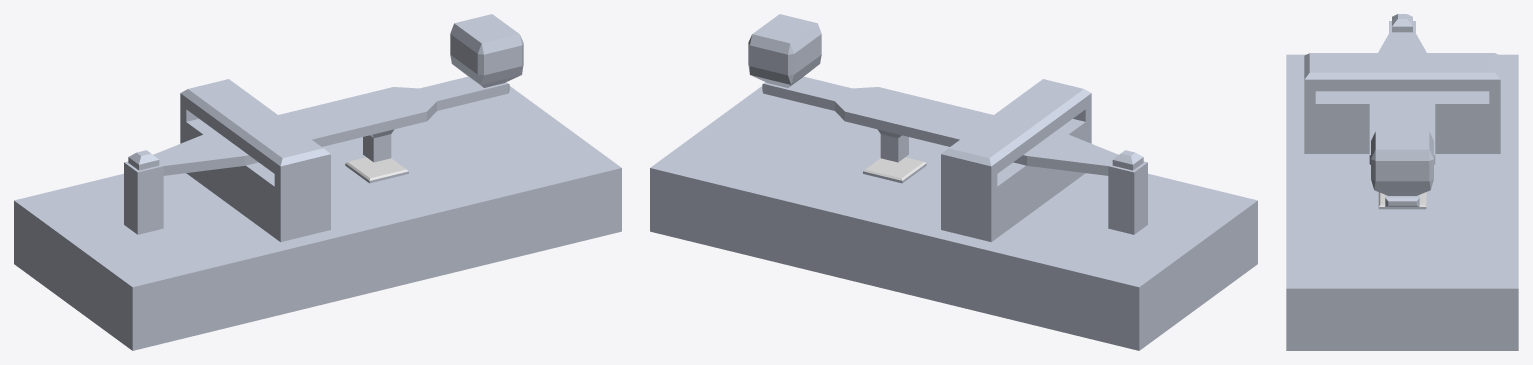
File: MorseCodePaddle.fbx
3 views of the same model, side by side, from view 1: azimuth 30°, elevation 25°; view 2: azimuth 150°, elevation 25°; view 3: azimuth 270°, elevation 25° (orthographic). The views are drawn at different scales.
Parts seen in each view (by area): view 1: Cube, Code Paddle; view 2: Cube, Code Paddle; view 3: Cube, Code Paddle.
Part boxes in pixels (x1=…): Cube: x1=14, y1=79, x2=621, y2=350; Code Paddle: x1=211, y1=14, x2=523, y2=165; Cube: x1=650, y1=79, x2=1257, y2=350; Code Paddle: x1=748, y1=14, x2=1060, y2=165; Cube: x1=1286, y1=14, x2=1518, y2=350; Code Paddle: x1=1369, y1=91, x2=1435, y2=206.
Size of the model in its own units: 264 by 91.77 by 111.
